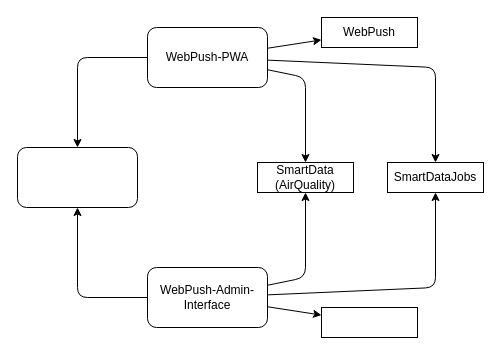
This 501x355 diagram has some shape labels left out. The centre of each missing label's shape, as x and y in pixels:
SmartDataLyser: point (369, 322)
SWAC: point (77, 177)
